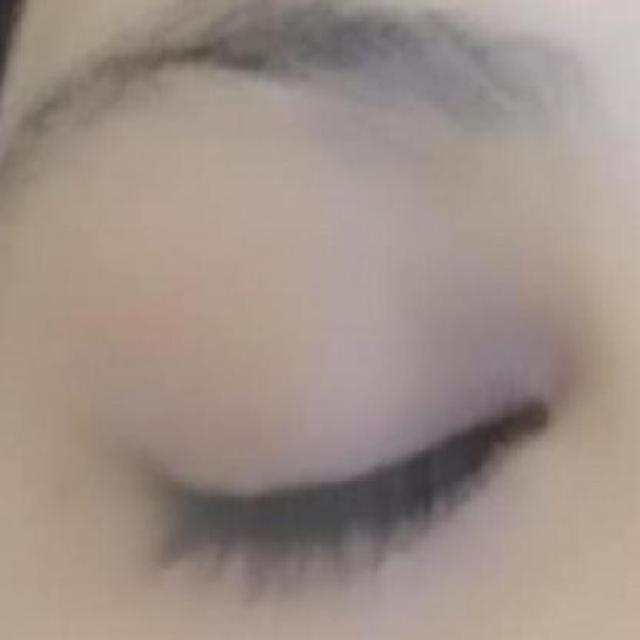drowsy: (135, 380, 554, 638)
